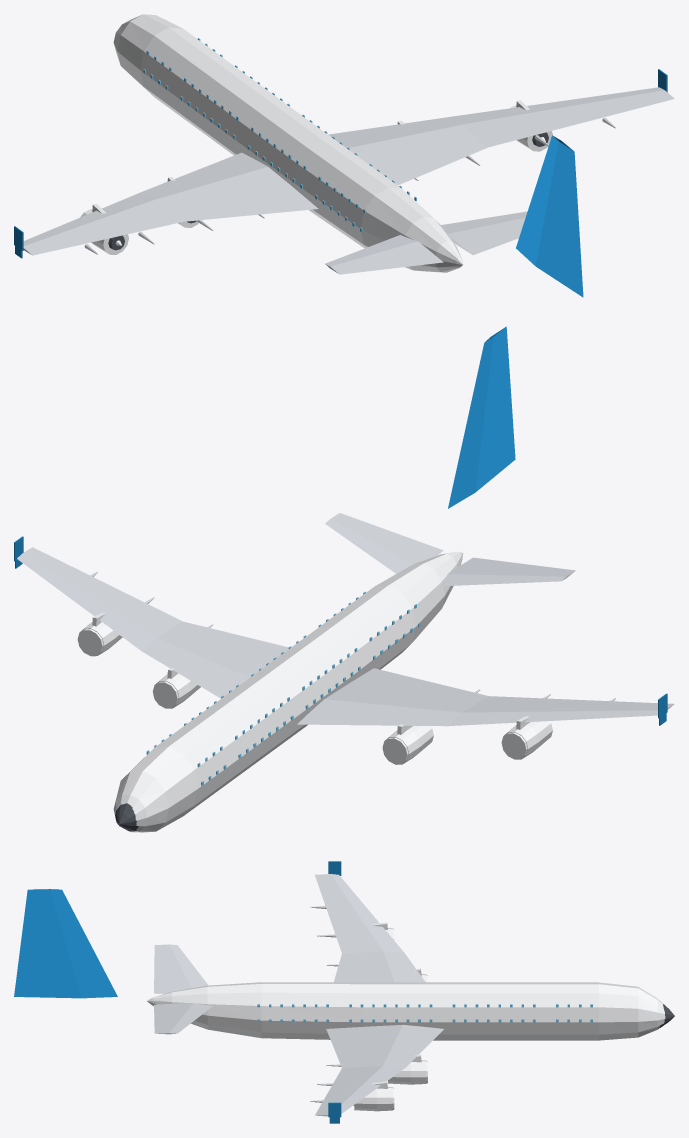
File: a380_lowpoly.glb
3 views of the same model, one above another, from view 1: azimuth 30°, elevation 25°; view 2: azimuth 150°, elevation 25°; view 3: azimuth 270°, elevation 25° (orthographic). The views are drawn at different scales.
Visible parts, largest first — view 1: A380_Body, A380_Wings, A380_Engines; view 2: A380_Body, A380_Wings, A380_Engines; view 3: A380_Body, A380_Wings, A380_Engines.
Part boxes in pixels (box(x1,y1,x2,y2)): A380_Body: box(14, 14, 667, 297); A380_Wings: box(23, 87, 674, 274); A380_Engines: box(80, 100, 552, 254); A380_Body: box(14, 326, 667, 832); A380_Wings: box(17, 513, 674, 726); A380_Engines: box(77, 612, 552, 764); A380_Body: box(14, 861, 674, 1123); A380_Wings: box(154, 874, 443, 1116); A380_Engines: box(353, 922, 427, 1111).
Size of the model in its own units: 79.74 by 25.15 by 92.1.
